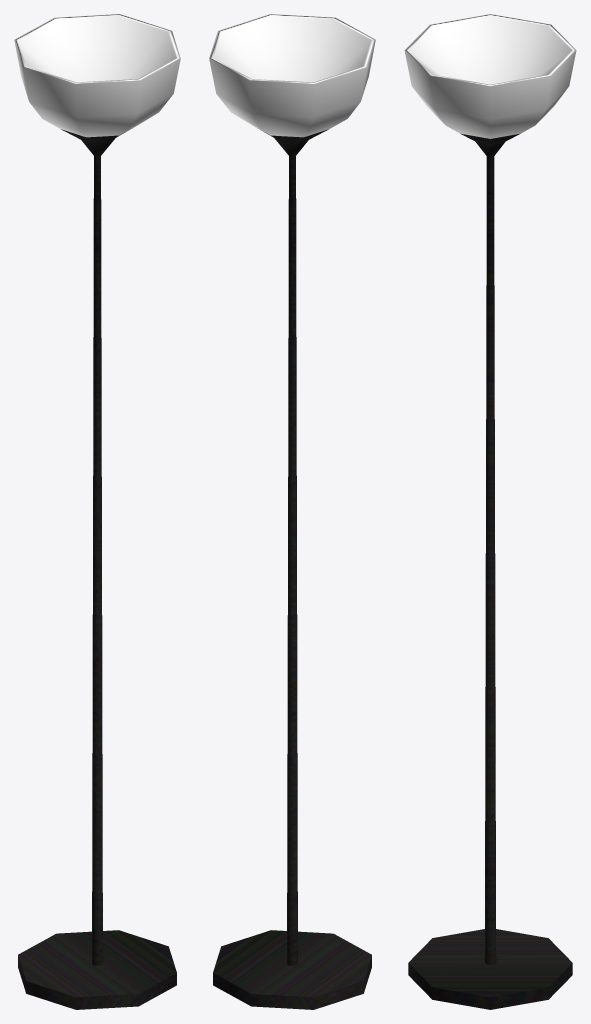
File: POT_Uplighter.obj
3 views of the same model, side by side, from view 1: azimuth 30°, elevation 25°; view 2: azimuth 150°, elevation 25°; view 3: azimuth 270°, elevation 25° (orthographic).
Visible parts, largest first — view 1: pCylinder1; view 2: pCylinder1; view 3: pCylinder1.
Part boxes in pixels (x1,y1,x2,y2): pCylinder1: (14, 14, 180, 1009); pCylinder1: (209, 14, 375, 1009); pCylinder1: (404, 14, 576, 1009).
Bounding box in the file's own units: 2.93 × 17.37 × 2.93.
Materials: 1 (1 with a texture image).
